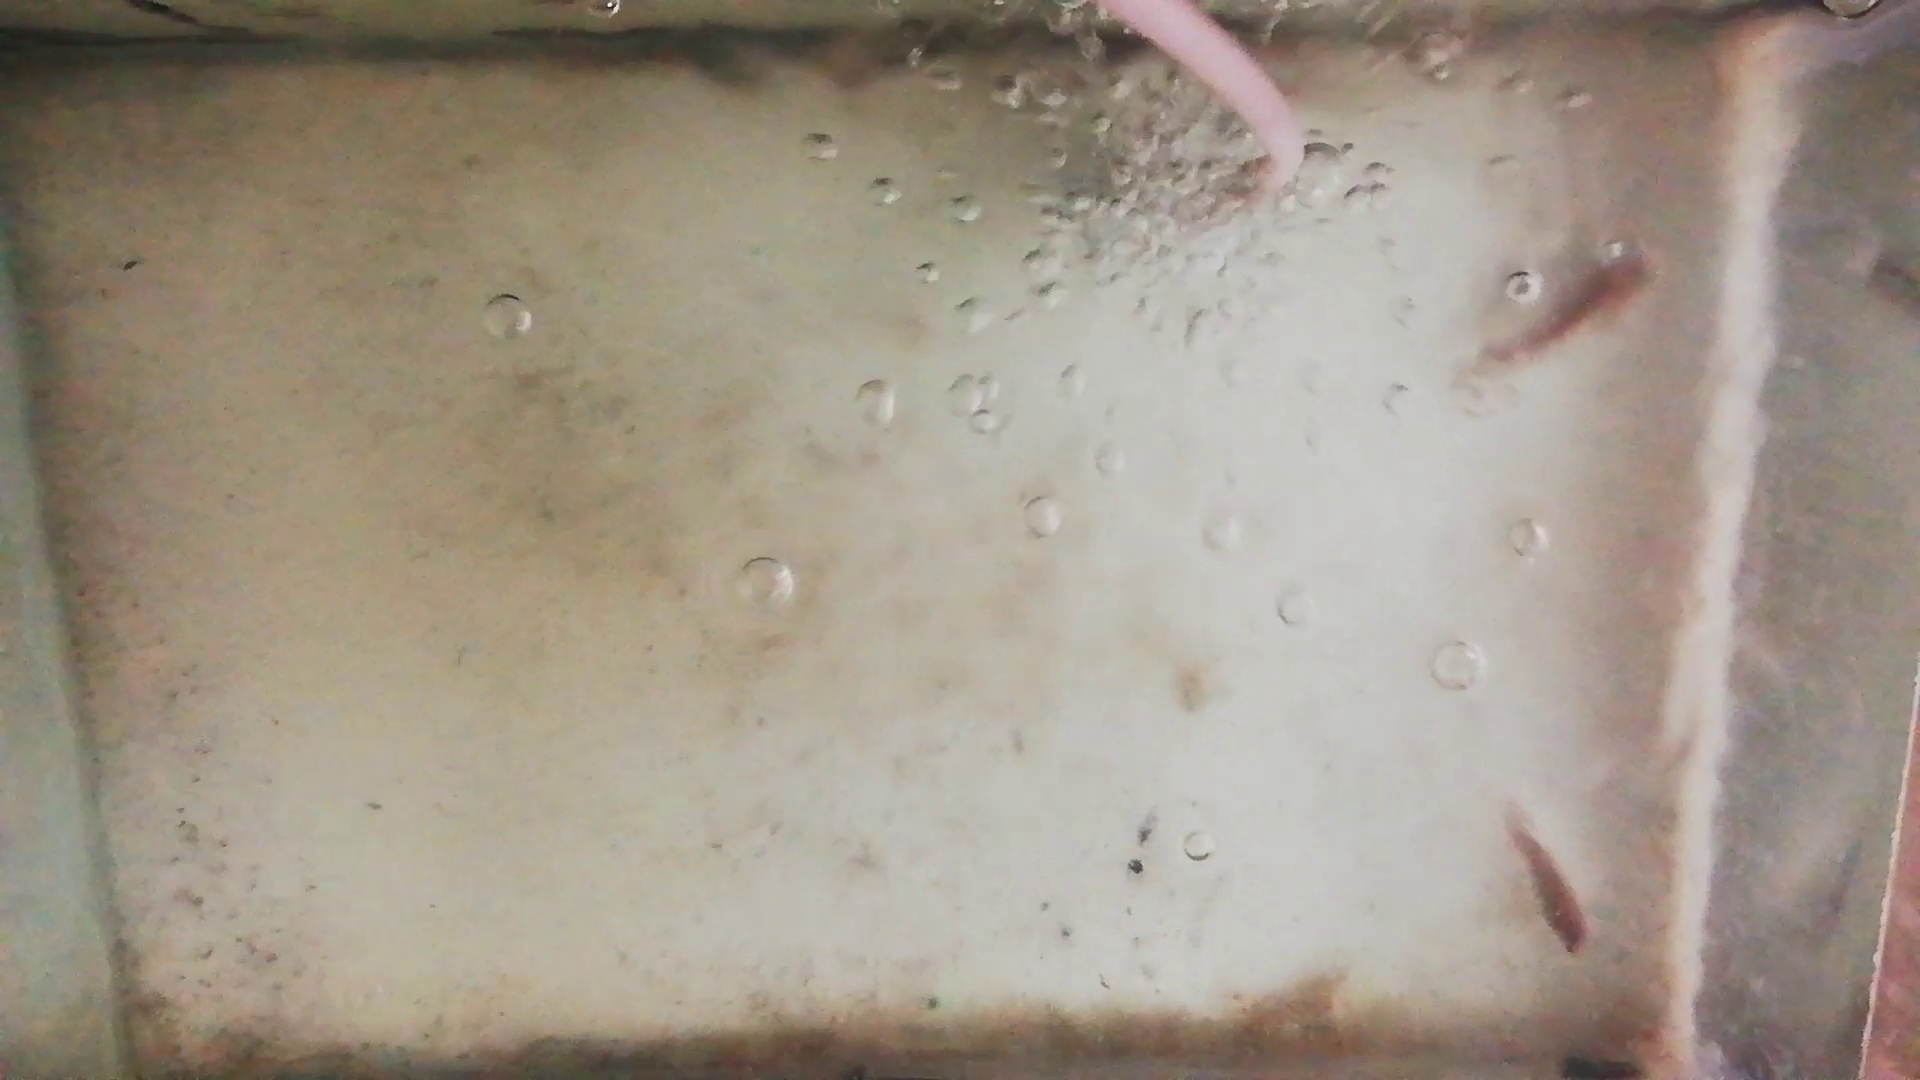fish: (1477, 248, 1658, 363), (1501, 814, 1586, 953)
